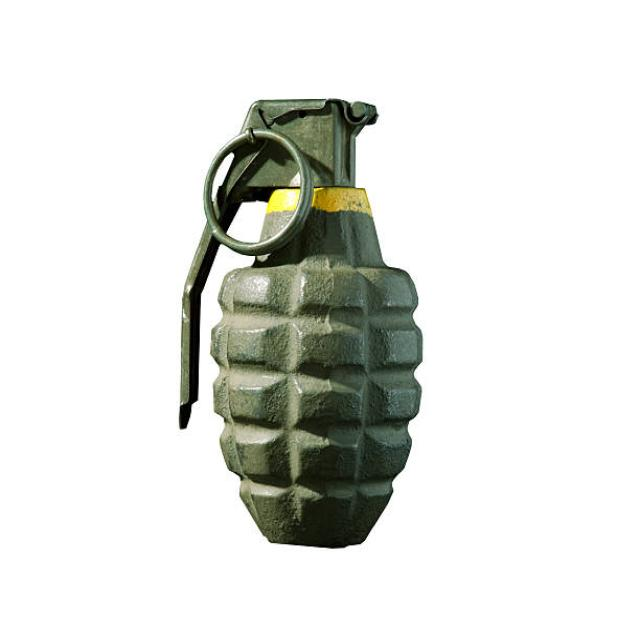grenade: (173, 91, 433, 558)
